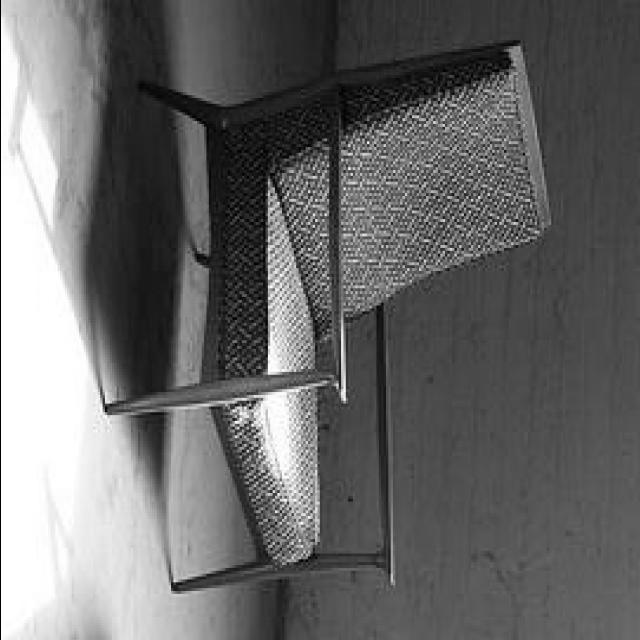chair: (100, 36, 552, 598)
